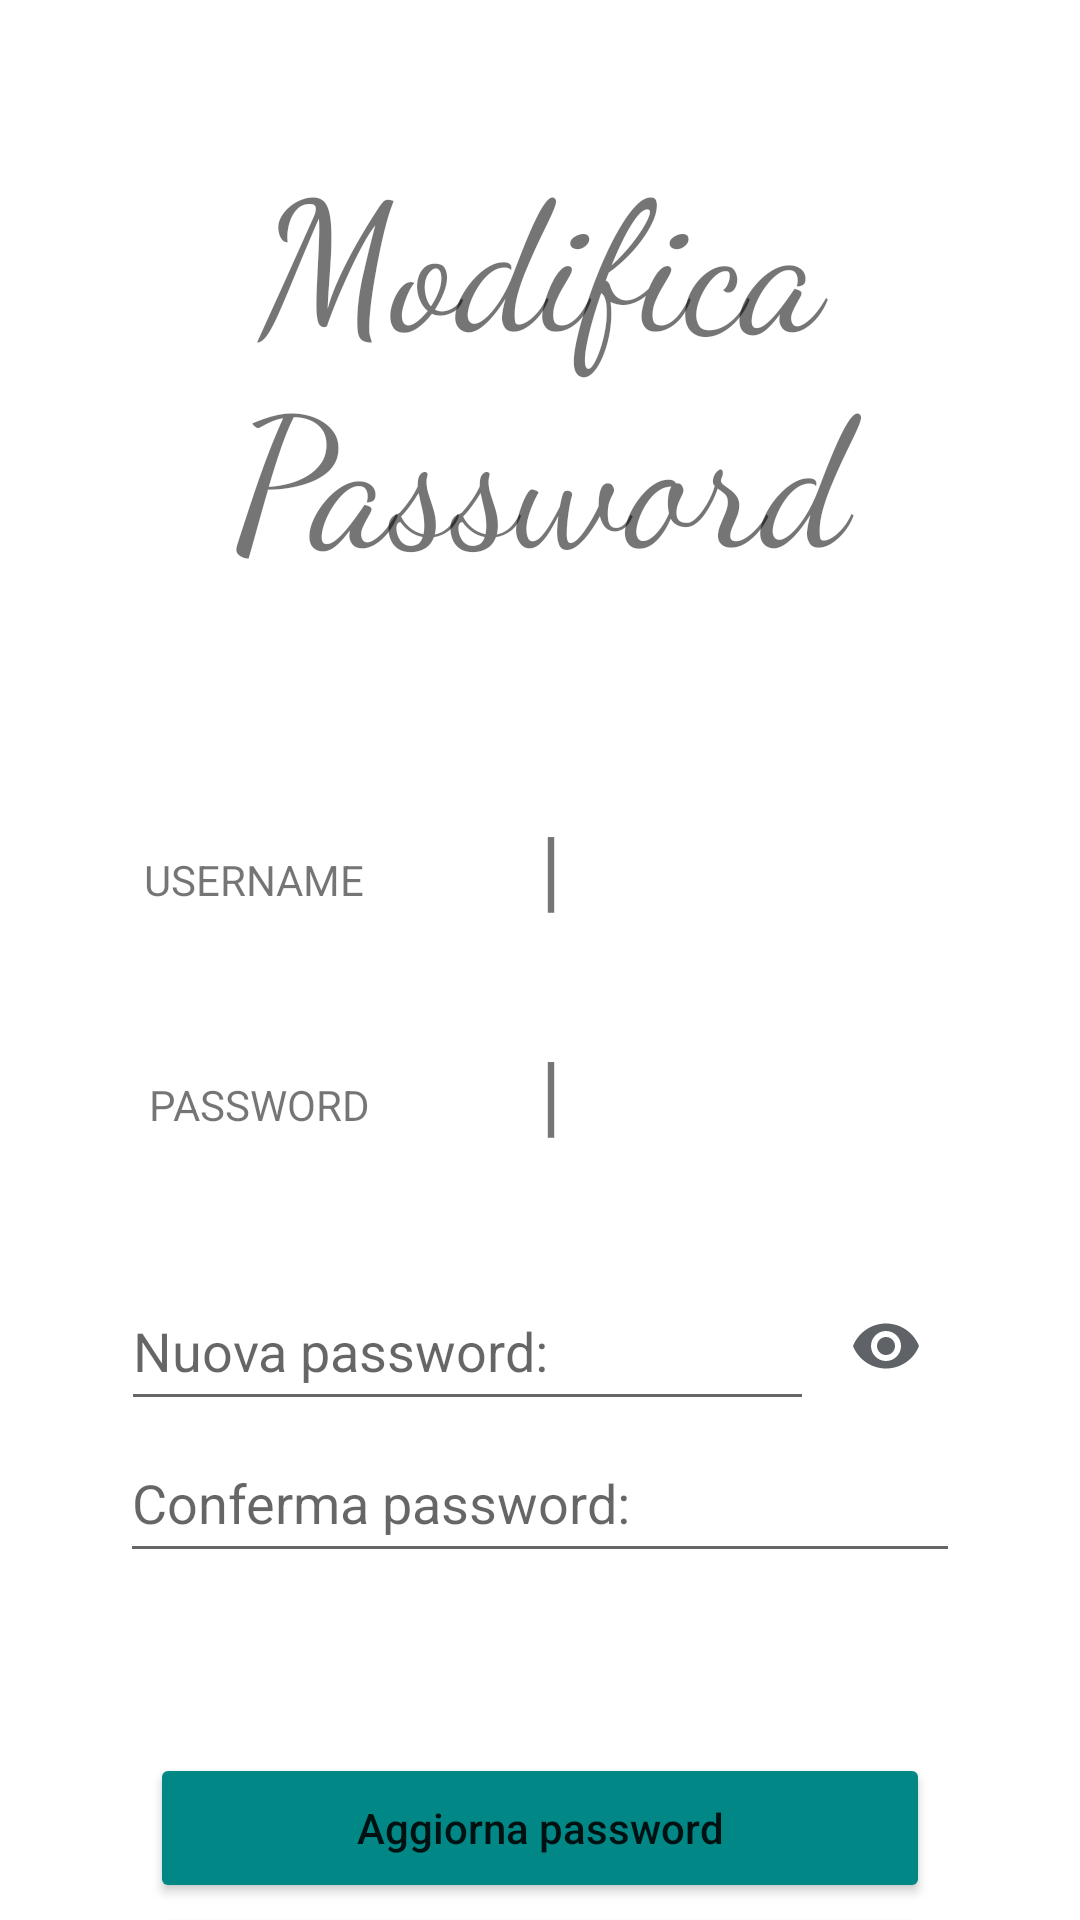

Locate icon controls on the screen. Image size 1080px×1920px, boxes as (x1, y1, x2, y2).
visibility: (853, 1323, 919, 1369)
